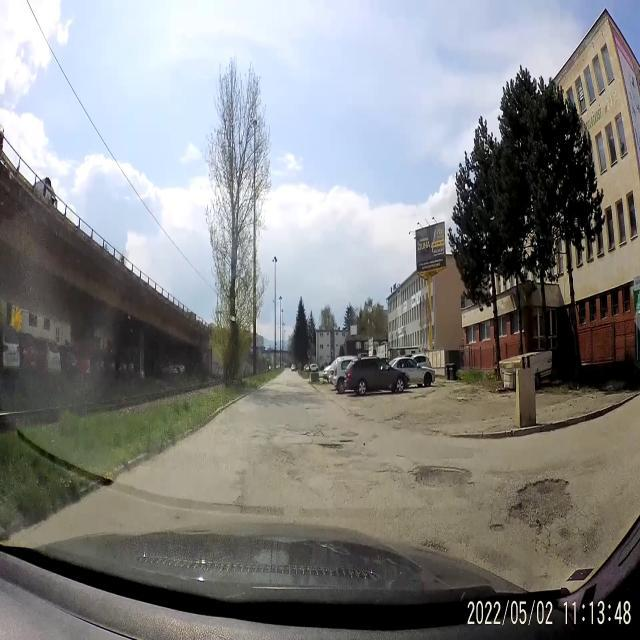Manhole: (279, 433, 294, 445), (340, 431, 361, 439)
Pothole: (508, 472, 576, 538), (408, 455, 478, 499), (314, 440, 344, 460), (484, 514, 506, 540)
